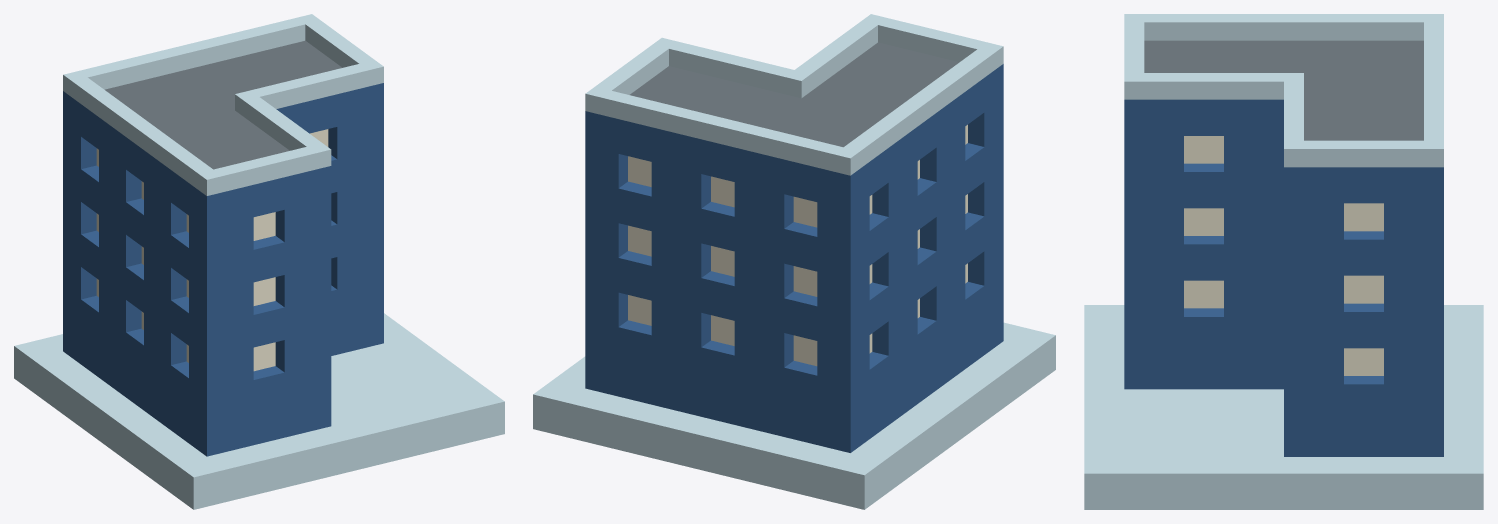
File: Building_3_Base (Blue).obj
3 renders of one model, left to right at view 1: azimuth 30°, elevation 25°; view 2: azimuth 150°, elevation 25°; view 3: azimuth 270°, elevation 25°, orthographic. The views are drawn at different scales.
Visible parts, largest first — view 1: Building_3_Base_(Blue); view 2: Building_3_Base_(Blue); view 3: Building_3_Base_(Blue).
Boxes of the visible parts, <box> form: Building_3_Base_(Blue): <box>14,14,504,509</box>; Building_3_Base_(Blue): <box>533,14,1055,509</box>; Building_3_Base_(Blue): <box>1084,14,1483,509</box>.
Bounding box in the file's own units: 2 × 1.9 × 2.
